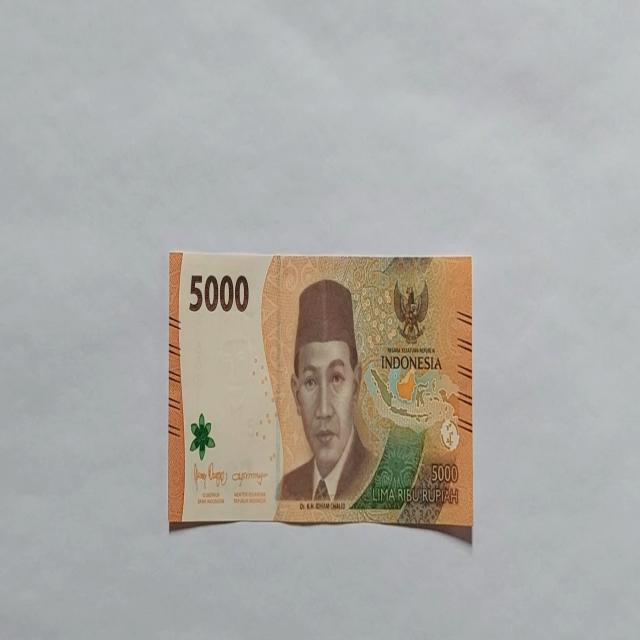lima ribu rupiah: (166, 251, 474, 546), (274, 278, 378, 508)
